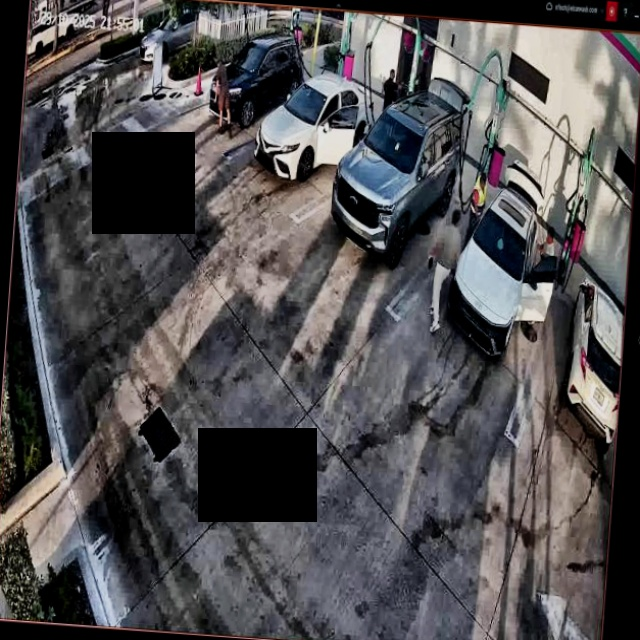Car: (328, 78, 469, 268), (441, 177, 561, 357), (254, 64, 374, 185)
